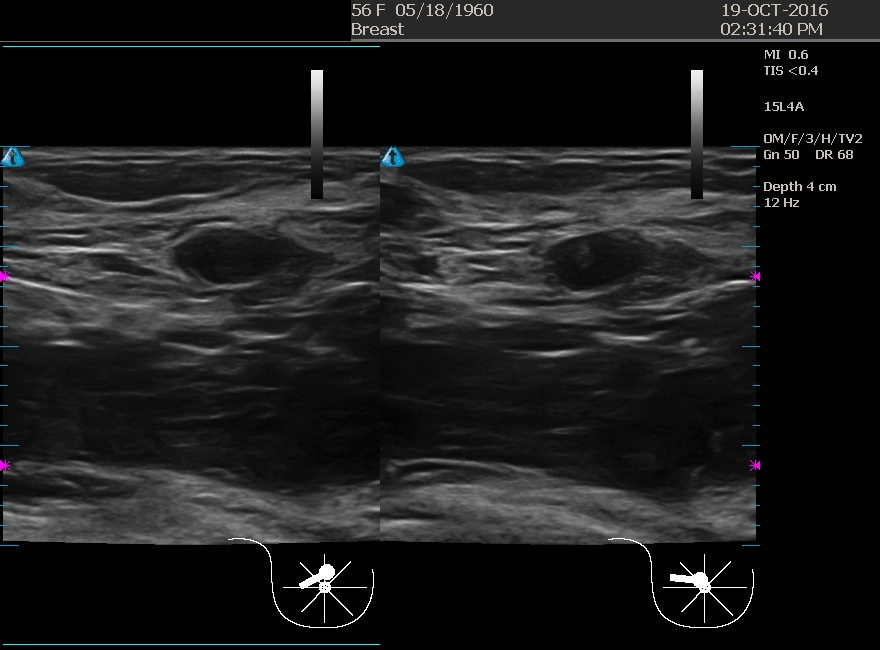BIRADS_3: (107, 155, 307, 355), (483, 154, 683, 354)
